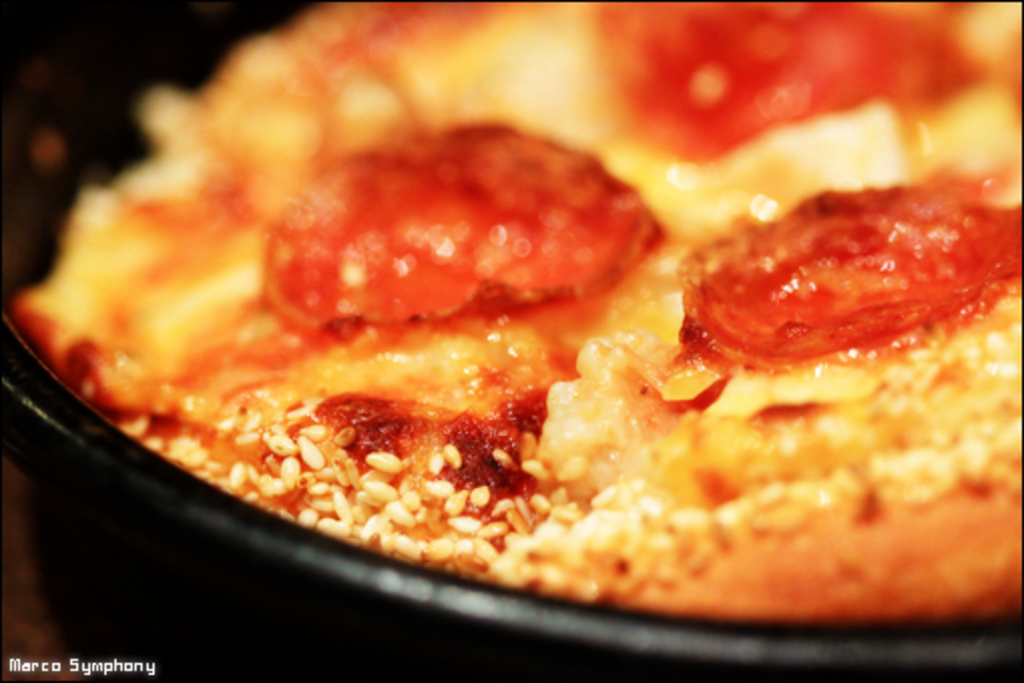Pizza: (0, 0, 1021, 606)
